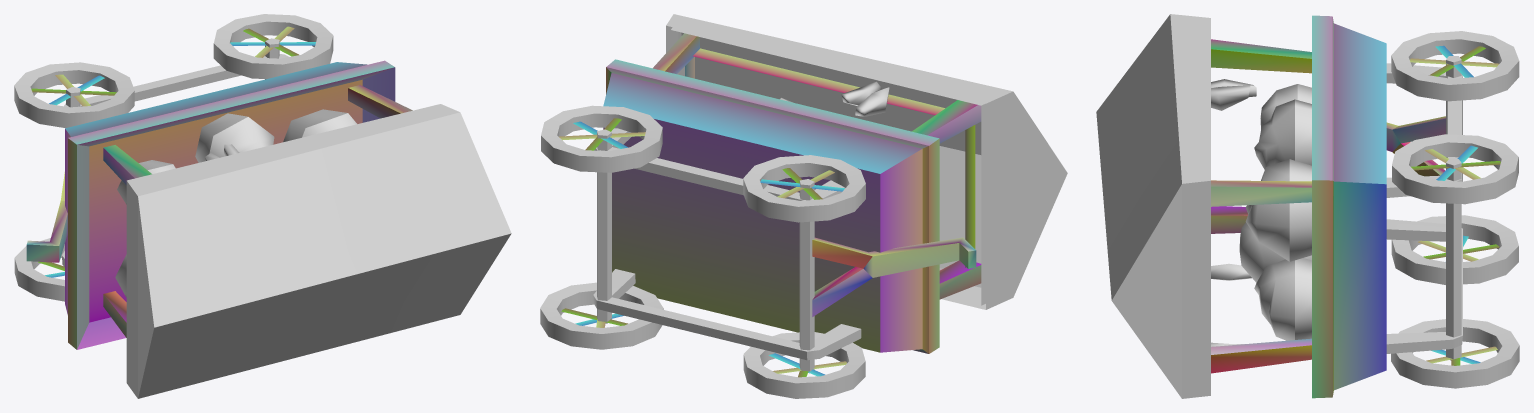
Rendered from FruitCart.glb.
3 views of the same model, side by side, from view 1: azimuth 30°, elevation 25°; view 2: azimuth 150°, elevation 25°; view 3: azimuth 270°, elevation 25° (orthographic). The views are drawn at different scales.
Visible parts, largest first — view 1: MeshNode_0, MeshNode_1; view 2: MeshNode_1, MeshNode_0; view 3: MeshNode_0, MeshNode_1.
Part boxes in pixels (x1,y1,x2,y2): MeshNode_0: [14, 14, 511, 398]; MeshNode_1: [26, 26, 412, 349]; MeshNode_1: [559, 33, 981, 377]; MeshNode_0: [540, 14, 1067, 398]; MeshNode_0: [1096, 14, 1519, 398]; MeshNode_1: [1211, 15, 1500, 398].
Bounding box in the file's own units: 5.82 × 3.01 × 5.24.
